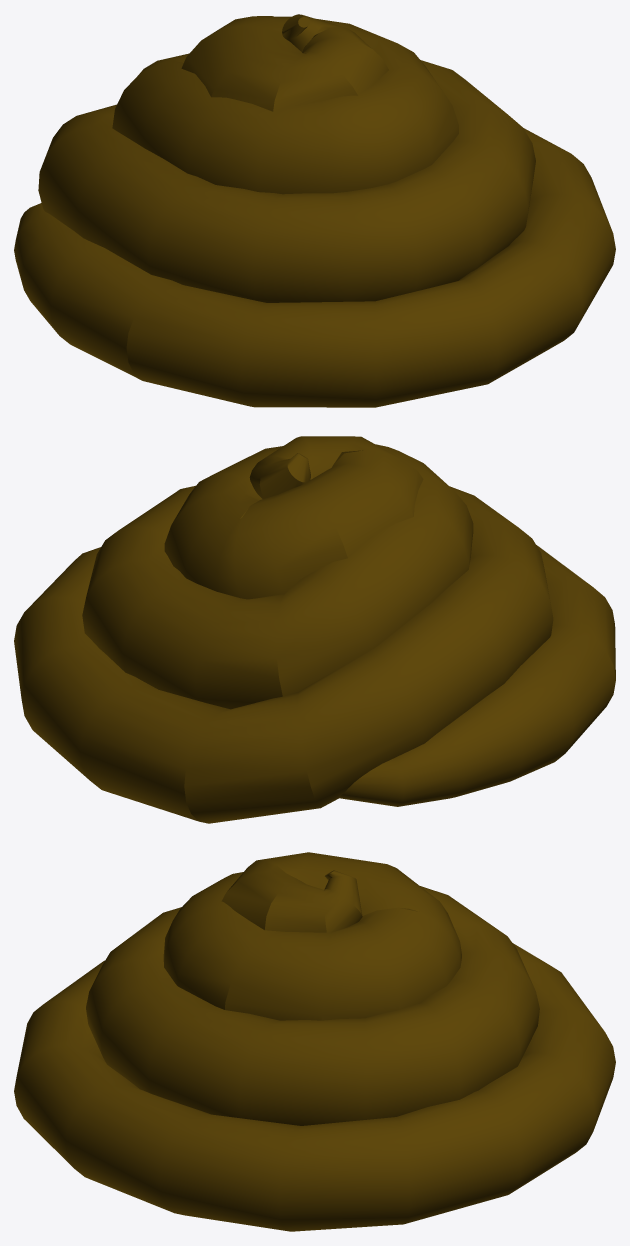
File: poop.fbx
3 renders of one model, top to bottom at view 1: azimuth 30°, elevation 25°; view 2: azimuth 150°, elevation 25°; view 3: azimuth 270°, elevation 25°, orthographic. The views are drawn at different scales.
Visible parts, largest first — view 1: pCylinder1; view 2: pCylinder1; view 3: pCylinder1.
Part boxes in pixels (x1,y1,x2,y2): pCylinder1: (14,14,615,407); pCylinder1: (14,436,615,823); pCylinder1: (14,852,615,1231).
Size of the model in its own units: 138 by 68.15 by 144.
